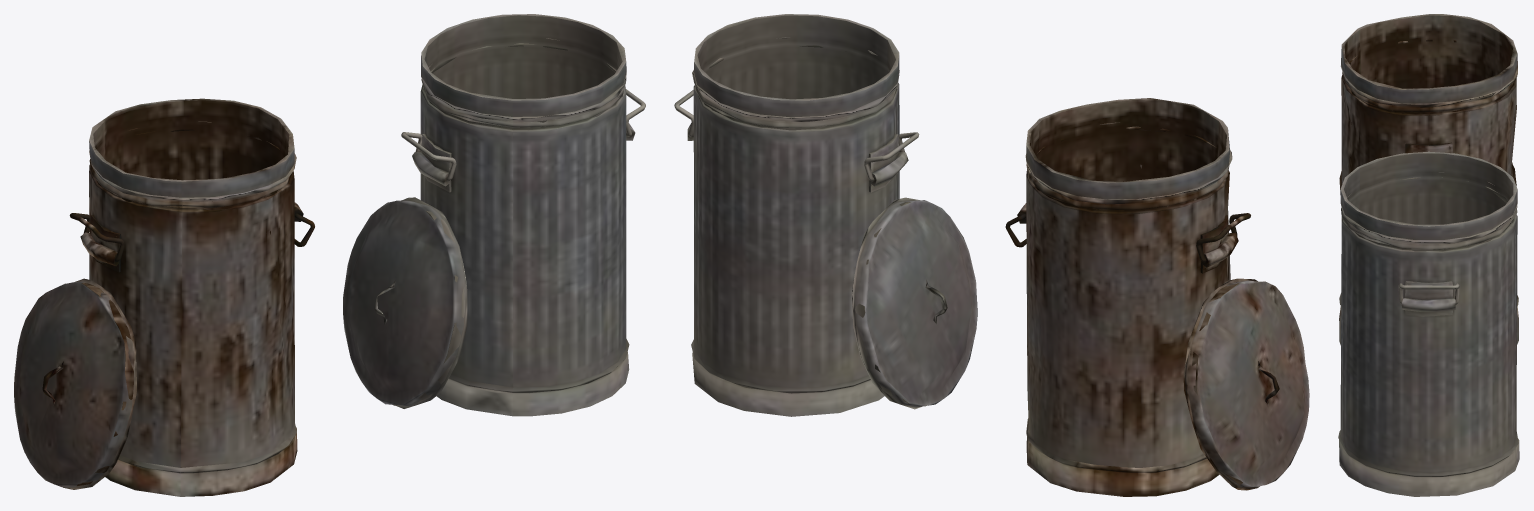
File: metal_trash_can.glb
The picture shows the model from 3 angles, left to right: view 1: azimuth 30°, elevation 25°; view 2: azimuth 150°, elevation 25°; view 3: azimuth 270°, elevation 25°; orthographic projection. The views are drawn at different scales.
Parts seen in each view (by area): view 1: metal_trash_can, metal_trash_can_rust, metal_trash_can_lid, metal_trash_can_rust_lid; view 2: metal_trash_can, metal_trash_can_rust, metal_trash_can_lid, metal_trash_can_rust_lid; view 3: metal_trash_can, metal_trash_can_rust, metal_trash_can_handle_right.
Boxes of the visible parts, box(x1,y1,x2,y2) form: metal_trash_can: box(412, 14, 635, 416); metal_trash_can_rust: box(80, 98, 303, 496); metal_trash_can_lid: box(343, 197, 467, 408); metal_trash_can_rust_lid: box(14, 278, 136, 489); metal_trash_can: box(687, 14, 908, 416); metal_trash_can_rust: box(1017, 98, 1238, 496); metal_trash_can_lid: box(851, 197, 977, 409); metal_trash_can_rust_lid: box(1183, 278, 1309, 490); metal_trash_can: box(1338, 151, 1519, 496); metal_trash_can_rust: box(1339, 14, 1518, 320); metal_trash_can_handle_right: box(1398, 283, 1459, 304).
Bounding box in the file's own units: 1.78 × 0.9062 × 0.5519.
Materials: 2 (2 with a texture image).
